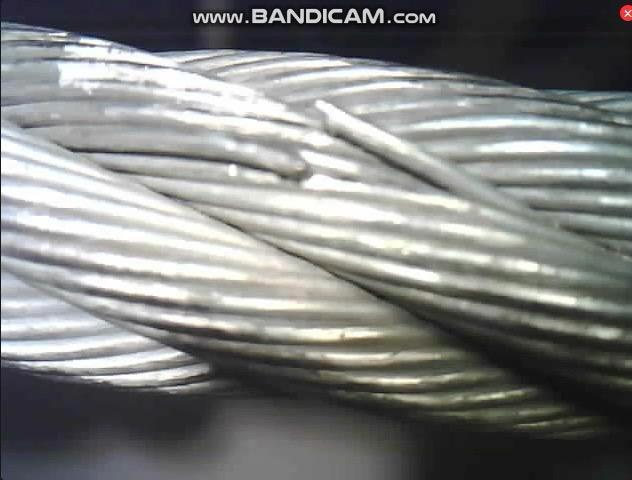break: (254, 86, 350, 186)
